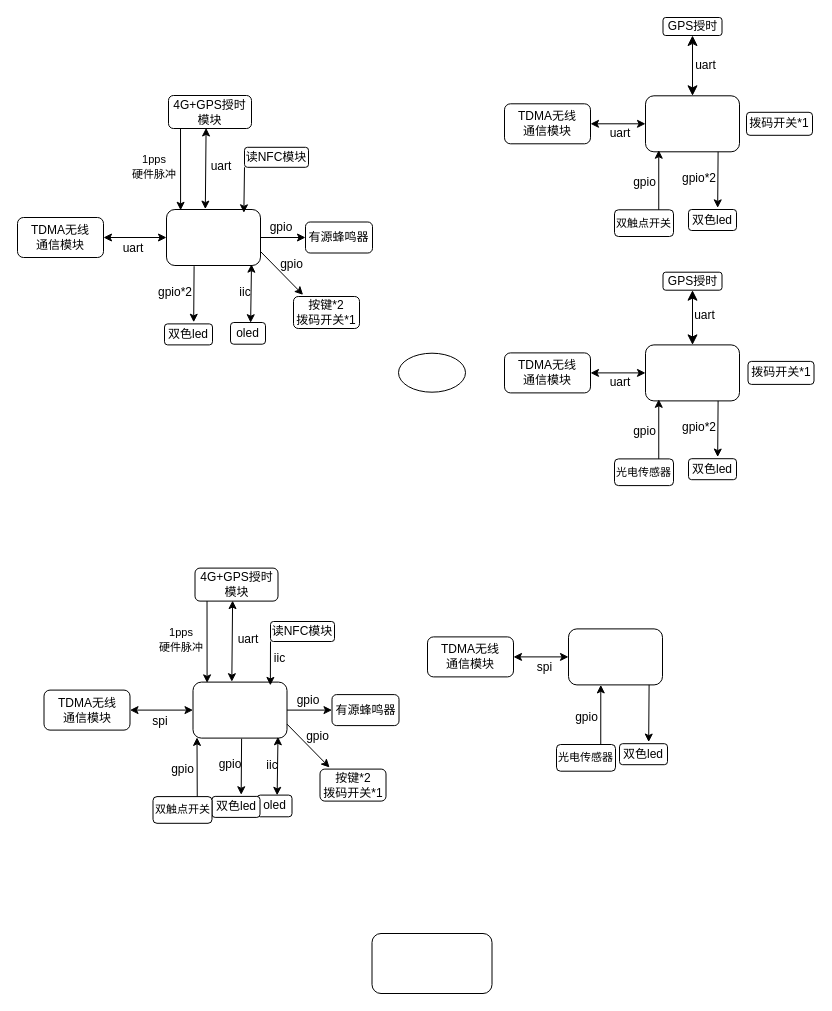
This 832x1011 diagram has some shape labels left out. Each missing label, with the box of its shape:
Hilink: (166, 208, 260, 266)
linux（arm） 中控台 成绩统计这些: (371, 932, 492, 994)
NFC腕带: (398, 352, 466, 392)
stm32 (Hilink): (192, 681, 287, 738)
stm32 （end）: (644, 344, 740, 401)
stm32 （Hisense）: (568, 628, 662, 685)
stm32 （start）: (644, 95, 740, 152)
